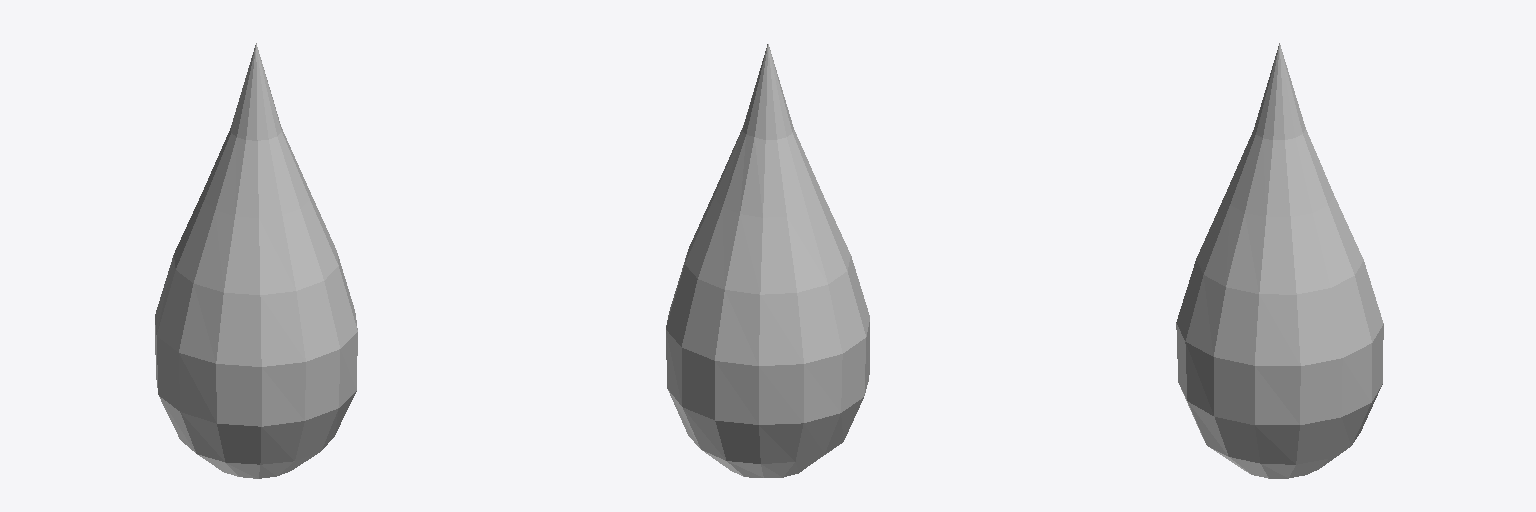
File: meteor.obj
3 views of the same model, side by side, from view 1: azimuth 30°, elevation 25°; view 2: azimuth 150°, elevation 25°; view 3: azimuth 270°, elevation 25° (orthographic).
Parts seen in each view (by area): view 1: Cube; view 2: Cube; view 3: Cube.
Boxes of the visible parts, x1=… form: Cube: x1=155, y1=43, x2=357, y2=478; Cube: x1=666, y1=44, x2=869, y2=477; Cube: x1=1176, y1=43, x2=1383, y2=478.
Bounding box in the file's own units: 0.967 × 2.24 × 0.9889.